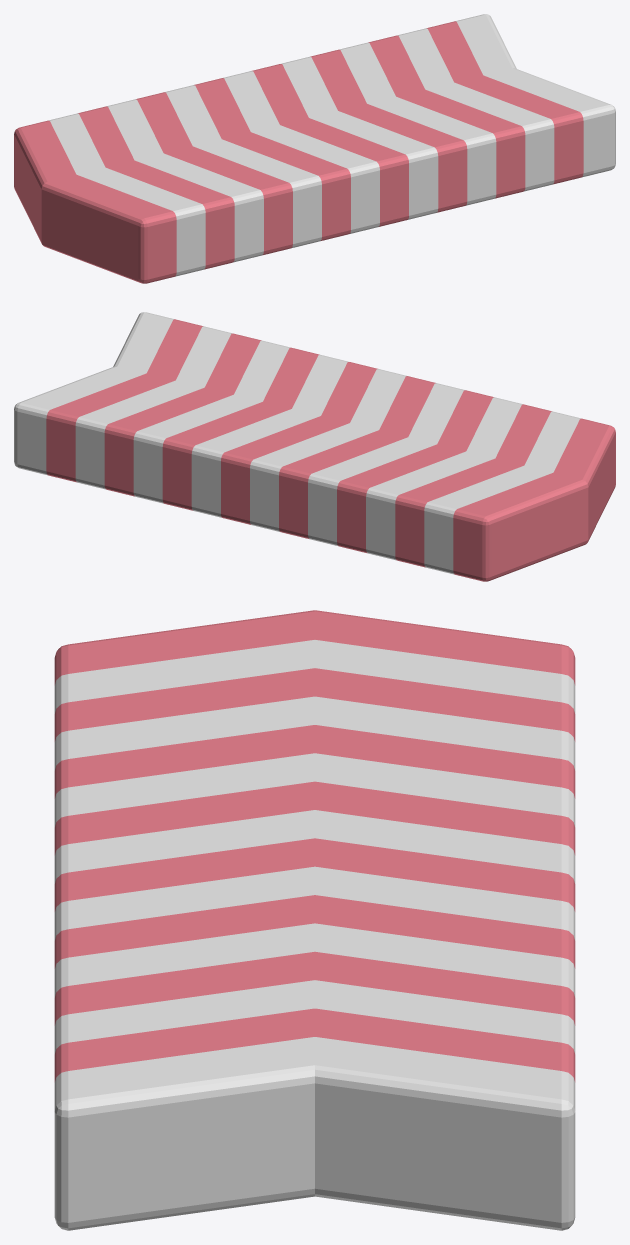
Rendered from platform.fbx.
The picture shows the model from 3 angles, top to bottom: view 1: azimuth 30°, elevation 25°; view 2: azimuth 150°, elevation 25°; view 3: azimuth 270°, elevation 25°; orthographic projection. The views are drawn at different scales.
Visible parts, largest first — view 1: Cube; view 2: Cube; view 3: Cube.
Part boxes in pixels (x1,y1,x2,y2): Cube: (14, 14, 615, 283); Cube: (14, 312, 615, 581); Cube: (54, 610, 575, 1230).
Bounding box in the file's own units: 454 × 55.14 × 200.
